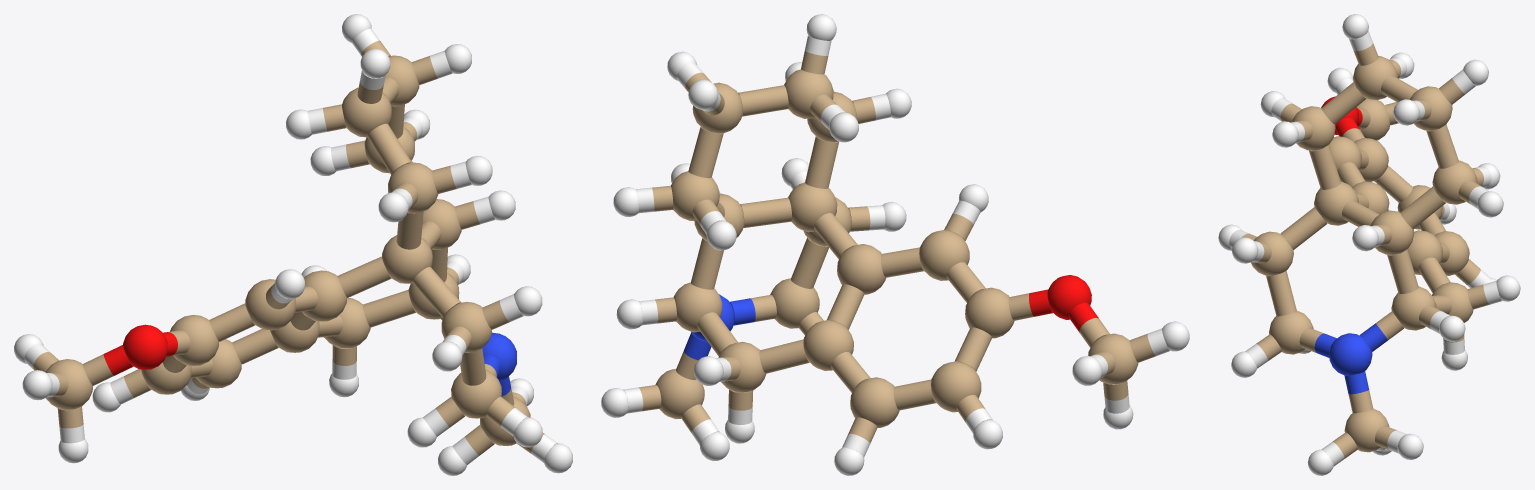
File: Dextromethorphan.fbx
3 views of the same model, side by side, from view 1: azimuth 30°, elevation 25°; view 2: azimuth 150°, elevation 25°; view 3: azimuth 270°, elevation 25° (orthographic). The views are drawn at different scales.
Visible parts, largest first — view 1: subnode_0, subnode_2, subnode_11, subnode_17, subnode_10, subnode_8, subnode_14, subnode_5, subnode_19, subnode_6, subnode_9, subnode_16 (+33 smaller); view 2: subnode_8, subnode_17, subnode_16, subnode_14, subnode_18, subnode_13, subnode_10, subnode_2, subnode_15, subnode_4, subnode_11, subnode_7 (+34 smaller); view 3: subnode_1, subnode_10, subnode_15, subnode_11, subnode_7, subnode_2, subnode_4, subnode_5, subnode_6, subnode_3, subnode_12, subnode_13 (+47 smaller).
Part boxes in pixels (left/top/right/bottom): subnode_0: left=123, top=324, right=167, bottom=369; subnode_2: left=382, top=235, right=432, bottom=283; subnode_11: left=342, top=87, right=391, bottom=137; subnode_17: left=170, top=315, right=218, bottom=365; subnode_10: left=451, top=369, right=501, bottom=418; subnode_8: left=302, top=270, right=346, bottom=321; subnode_14: left=245, top=279, right=295, bottom=330; subnode_5: left=441, top=301, right=491, bottom=352; subnode_19: left=45, top=359, right=92, bottom=409; subnode_6: left=388, top=162, right=438, bottom=213; subnode_9: left=324, top=298, right=370, bottom=348; subnode_16: left=196, top=339, right=241, bottom=388; subnode_8: left=837, top=244, right=885, bottom=294; subnode_17: left=965, top=287, right=1014, bottom=338; subnode_16: left=850, top=377, right=899, bottom=427; subnode_14: left=919, top=229, right=969, bottom=280; subnode_18: left=931, top=361, right=981, bottom=412; subnode_13: left=803, top=320, right=853, bottom=370; subnode_10: left=770, top=278, right=819, bottom=328; subnode_2: left=788, top=182, right=837, bottom=232; subnode_15: left=655, top=369, right=704, bottom=419; subnode_4: left=673, top=282, right=722, bottom=332; subnode_11: left=784, top=69, right=833, bottom=118; subnode_7: left=671, top=171, right=719, bottom=220; subnode_1: left=1329, top=333, right=1372, bottom=375; subnode_10: left=1269, top=310, right=1313, bottom=354; subnode_15: left=1344, top=408, right=1389, bottom=452; subnode_11: left=1353, top=56, right=1397, bottom=100; subnode_7: left=1432, top=160, right=1477, bottom=204; subnode_2: left=1314, top=181, right=1358, bottom=225; subnode_4: left=1391, top=286, right=1436, bottom=330; subnode_5: left=1251, top=231, right=1293, bottom=275; subnode_6: left=1292, top=106, right=1335, bottom=150; subnode_3: left=1371, top=210, right=1414, bottom=254; subnode_12: left=1409, top=86, right=1452, bottom=130; subnode_13: left=1407, top=230, right=1442, bottom=274.
Size of the model in its own units: 10.38 by 8.29 by 5.68.
